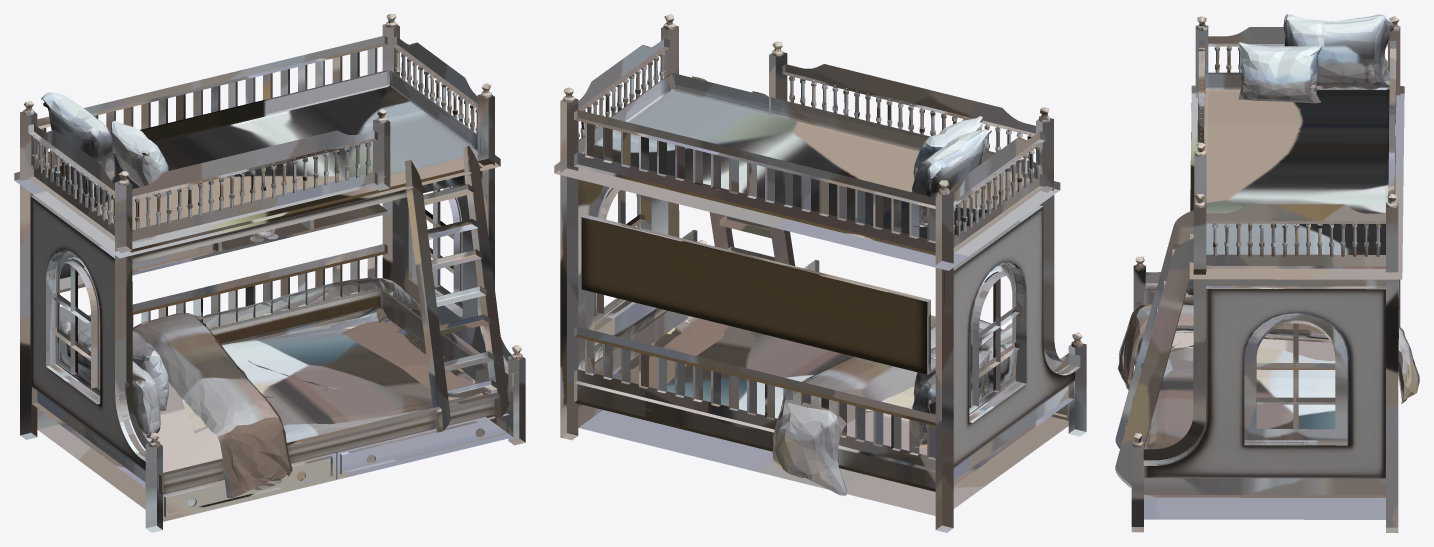
Rendered from edited_mesh.glb.
3 views of the same model, side by side, from view 1: azimuth 30°, elevation 25°; view 2: azimuth 150°, elevation 25°; view 3: azimuth 270°, elevation 25° (orthographic). The views are drawn at different scales.
Visible parts, largest first — view 1: solid_001_wire; view 2: solid_001_wire; view 3: solid_001_wire.
Part boxes in pixels (<box>): solid_001_wire: <box>14,14,525,532</box>; solid_001_wire: <box>554,14,1086,532</box>; solid_001_wire: <box>1115,14,1419,532</box>.
Bounding box in the file's own units: 1.47 × 1.27 × 1.01.
1 material, 1 textured.
